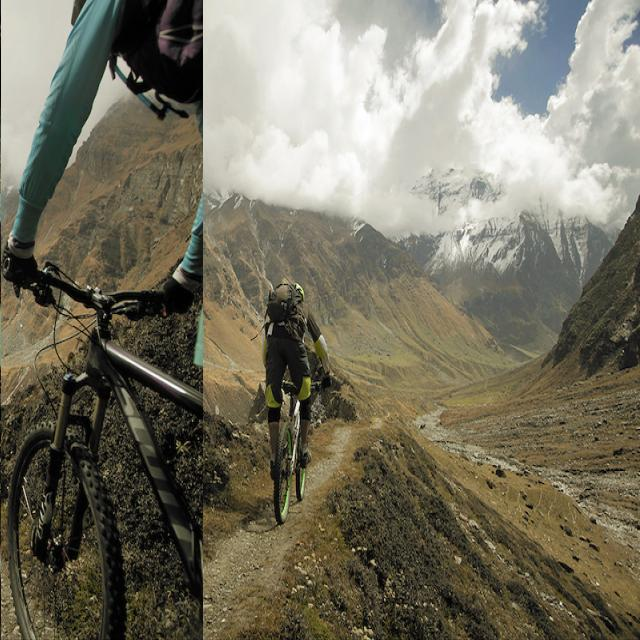bicycle: (1, 0, 202, 640), (262, 283, 331, 524), (0, 311, 9, 364)
